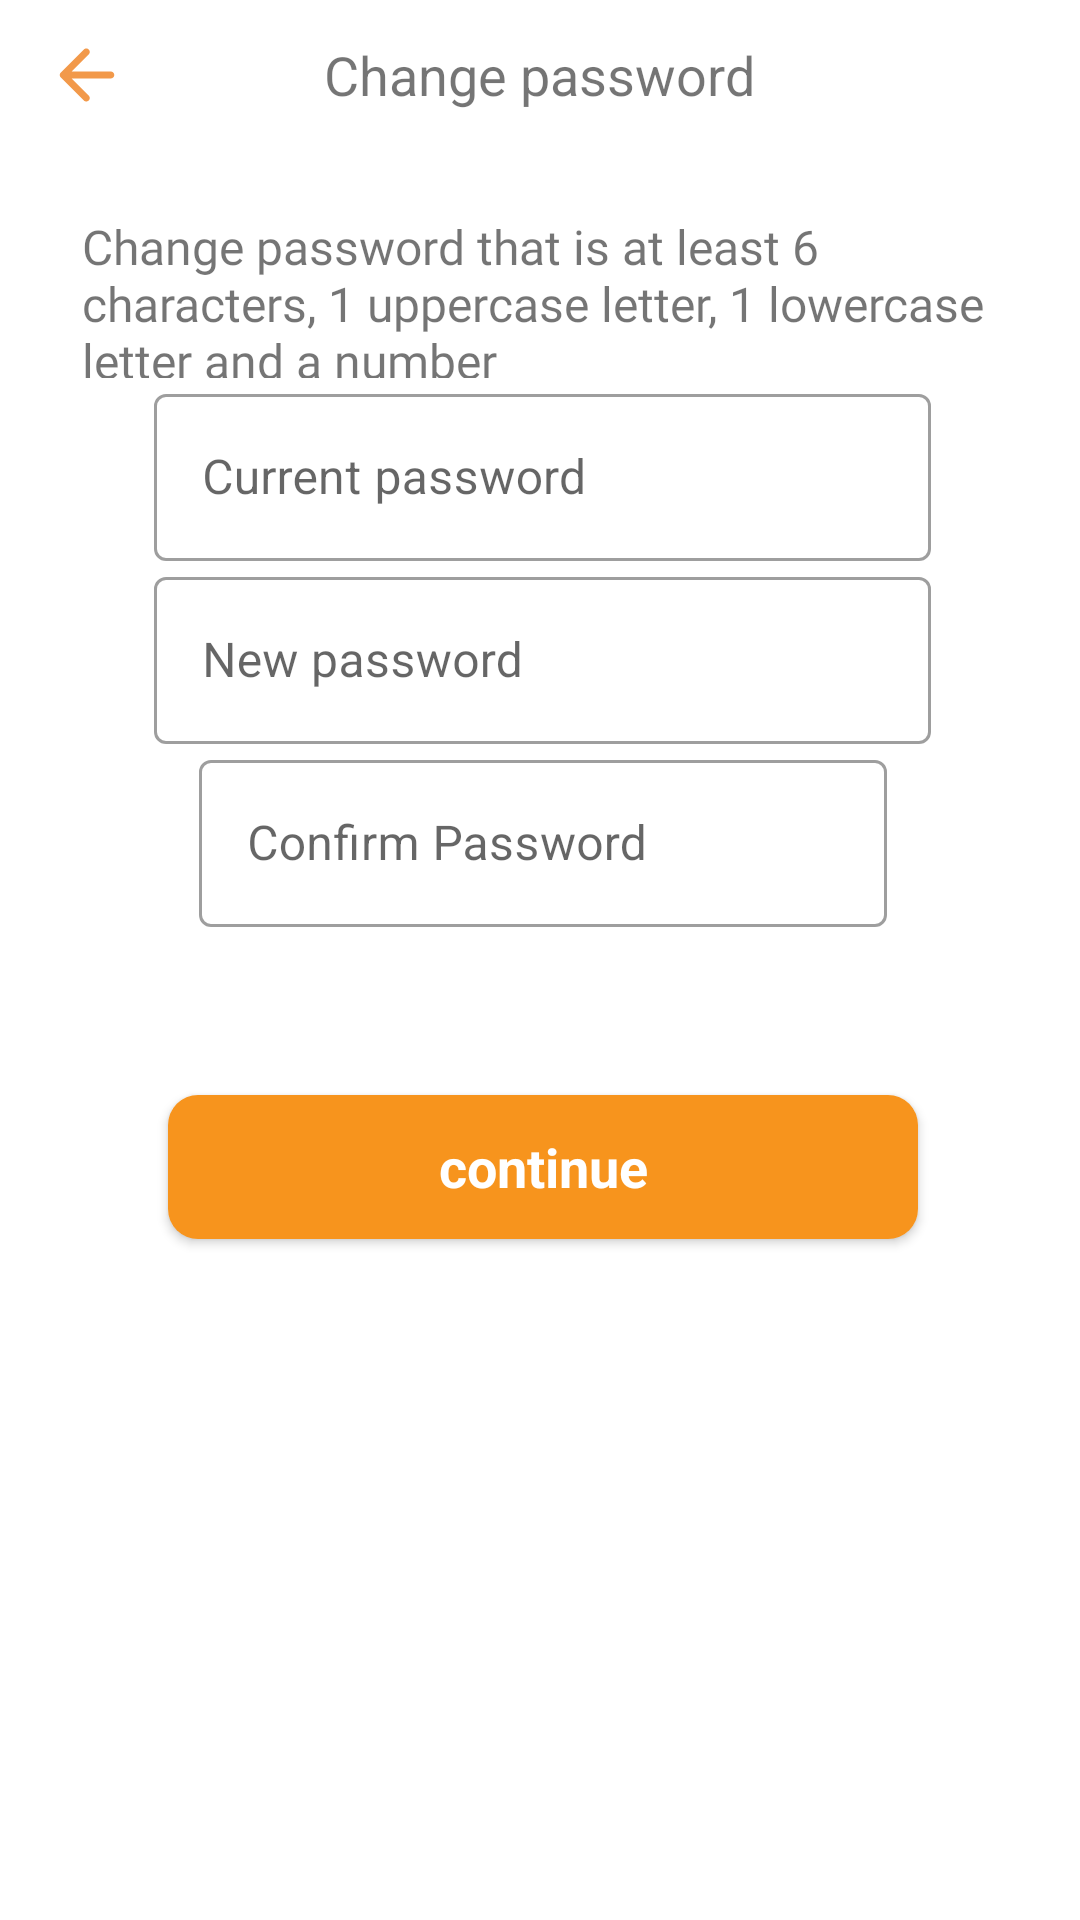

Screen size 1080 × 1920. Icon name, then its box in pixels as (x1,y1,x2,y2):
back: (59,48,115,102)
